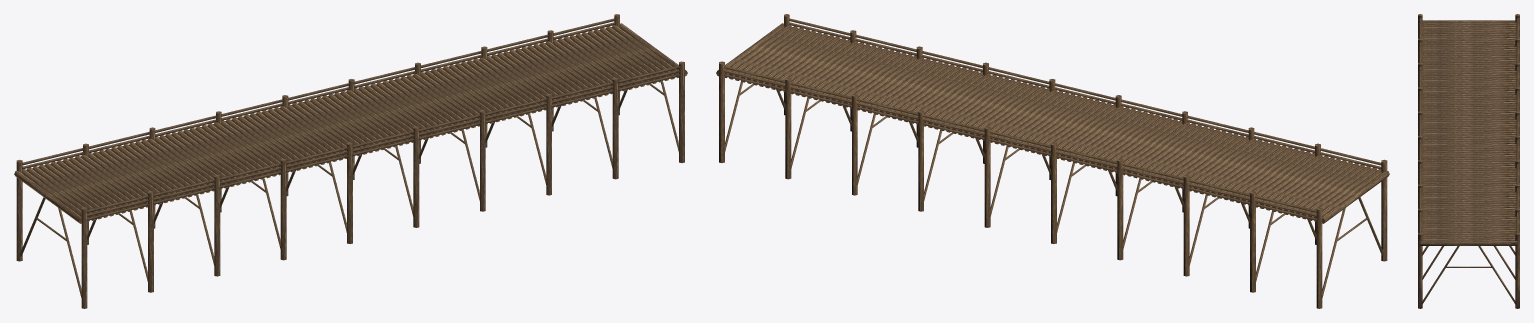
The model's file is WoodenBridge_01.FBX.
The picture shows the model from 3 angles, left to right: view 1: azimuth 30°, elevation 25°; view 2: azimuth 150°, elevation 25°; view 3: azimuth 270°, elevation 25°; orthographic projection. The views are drawn at different scales.
Visible parts, largest first — view 1: Cylinder107, Cylinder116, Cylinder110, Cylinder112, Cylinder122, Cylinder106, Cylinder108, Cylinder118, Cylinder114, Cylinder124, Cylinder120, Cylinder003; view 2: Cylinder106, Cylinder117, Cylinder111, Cylinder113, Cylinder123, Cylinder107, Cylinder119, Cylinder109, Cylinder115, Cylinder125, Cylinder121, Cylinder003; view 3: Cylinder103, Cylinder124, Cylinder125, Cylinder004, Cylinder009, Cylinder017, Cylinder018, Cylinder019, Cylinder020, Cylinder026, Cylinder027, Cylinder028 (+96 smaller).
Part boxes in pixels (box(x1,y1,x2,y2)): Cylinder107: box(81, 207, 87, 308); Cylinder116: box(413, 126, 419, 227); Cylinder110: box(214, 175, 220, 276); Cylinder112: box(280, 158, 286, 260); Cylinder122: box(612, 77, 618, 179); Cylinder106: box(16, 159, 22, 261); Cylinder108: box(148, 191, 153, 292); Cylinder118: box(480, 110, 485, 211); Cylinder114: box(347, 142, 352, 243); Cylinder124: box(679, 61, 684, 162); Cylinder120: box(546, 94, 551, 195); Cylinder003: box(14, 171, 81, 223); Cylinder106: box(1316, 207, 1322, 308); Cylinder117: box(984, 126, 990, 227); Cylinder111: box(1183, 175, 1189, 276); Cylinder113: box(1117, 158, 1123, 260); Cylinder123: box(785, 77, 791, 179); Cylinder107: box(1381, 159, 1387, 261); Cylinder119: box(918, 110, 923, 211); Cylinder109: box(1250, 191, 1255, 292); Cylinder115: box(1051, 142, 1056, 243); Cylinder125: box(719, 61, 724, 162); Cylinder121: box(852, 94, 857, 195); Cylinder003: box(1322, 171, 1389, 223); Cylinder103: box(1420, 241, 1517, 245); Cylinder124: box(1418, 232, 1422, 308); Cylinder125: box(1515, 232, 1519, 308); Cylinder004: box(1421, 22, 1516, 24); Cylinder009: box(1421, 33, 1516, 35); Cylinder017: box(1421, 51, 1516, 53); Cylinder018: box(1421, 53, 1516, 55); Cylinder019: box(1421, 55, 1516, 57); Cylinder020: box(1421, 57, 1516, 59); Cylinder026: box(1421, 71, 1516, 73); Cylinder027: box(1421, 73, 1516, 75); Cylinder028: box(1421, 75, 1516, 77).
Bounding box in the file's own units: 516 × 80 × 99.39.
Materials: 1 (1 with a texture image).
